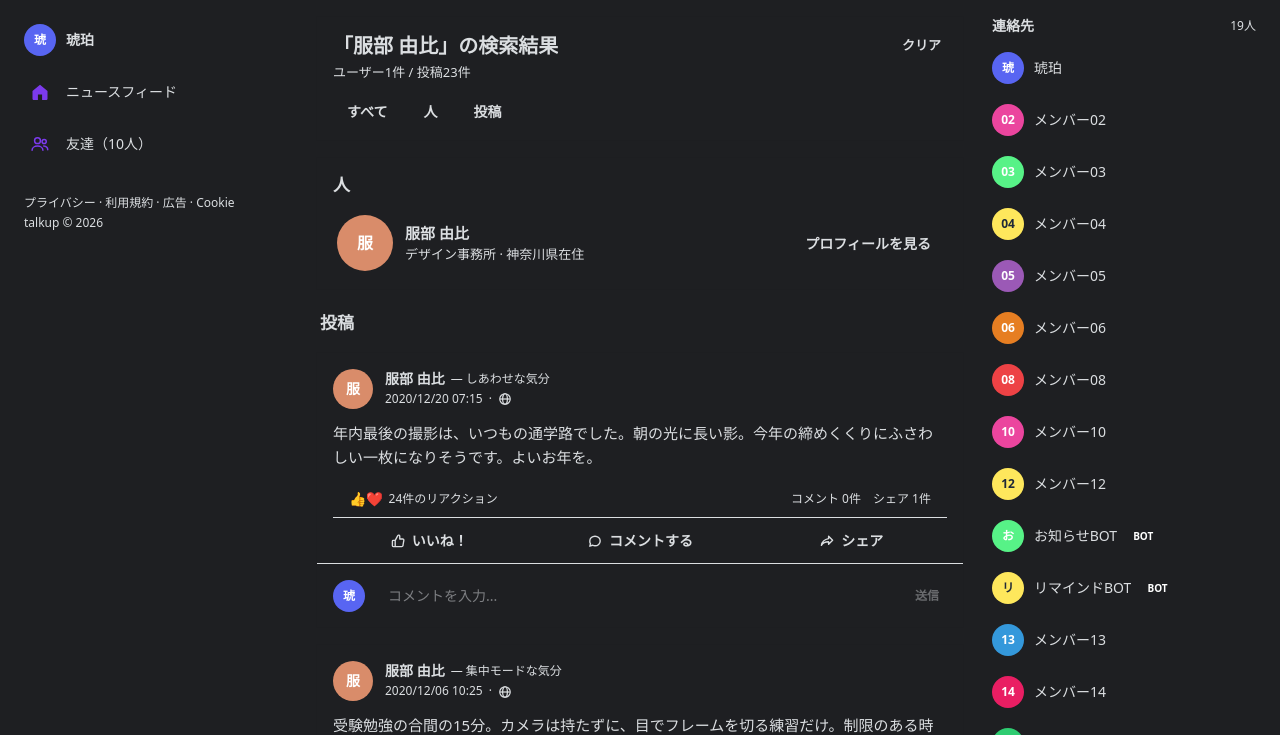
Scenario: TalkUp のフィードと検索（#95） › 「クリア」ボタンを押すと u40 のない通常フィードに戻る
The width and height of the screenshot is (1280, 735).
Click the button "クリア".
click(922, 46)  # box [896, 32, 947, 60]
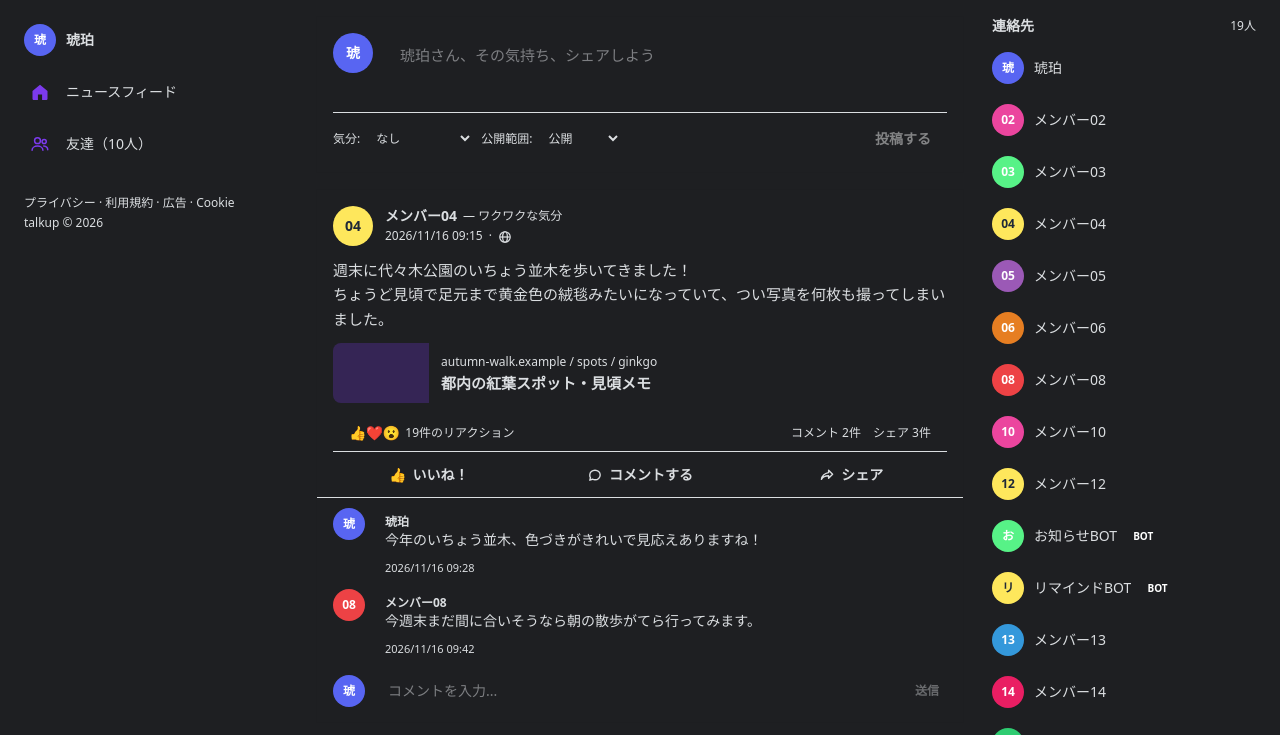
Expected: the heading "の検索結果" is gone
Expected: the text "服部 由比" is gone
